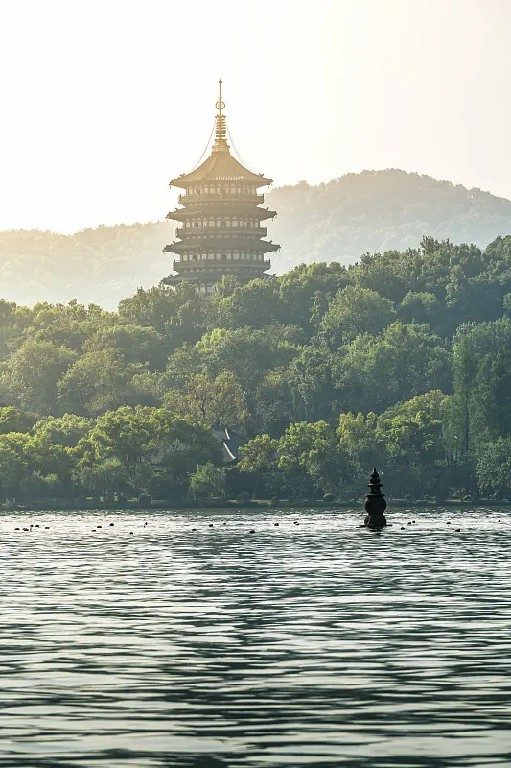Leifeng: (159, 77, 283, 296)
